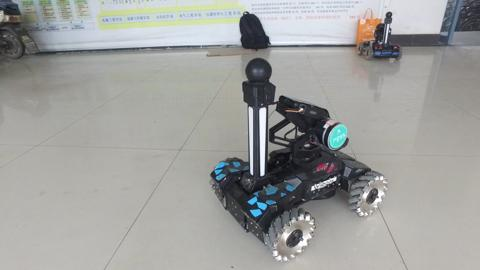bag: (236, 9, 273, 52), (356, 7, 383, 44)
chariot: (208, 55, 388, 261), (355, 10, 403, 62)
